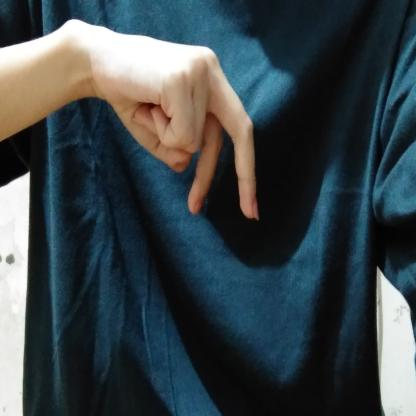run: (66, 15, 277, 226)
